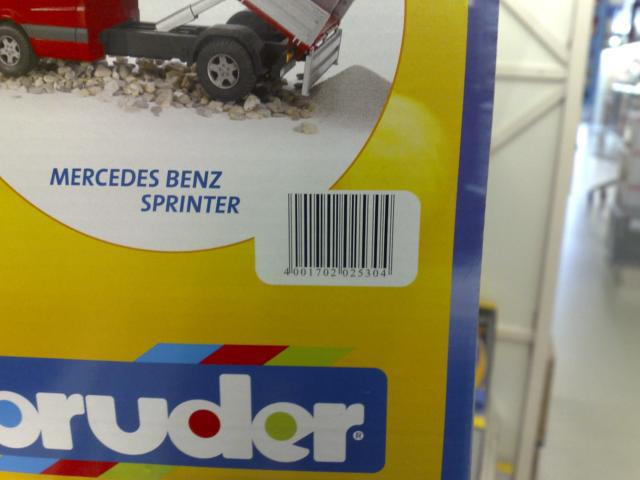Barkod: (286, 192, 394, 268)
